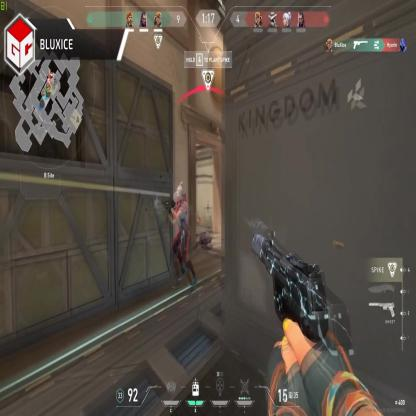enemy: (171, 186, 194, 282)
enemy_head: (176, 184, 183, 200)
